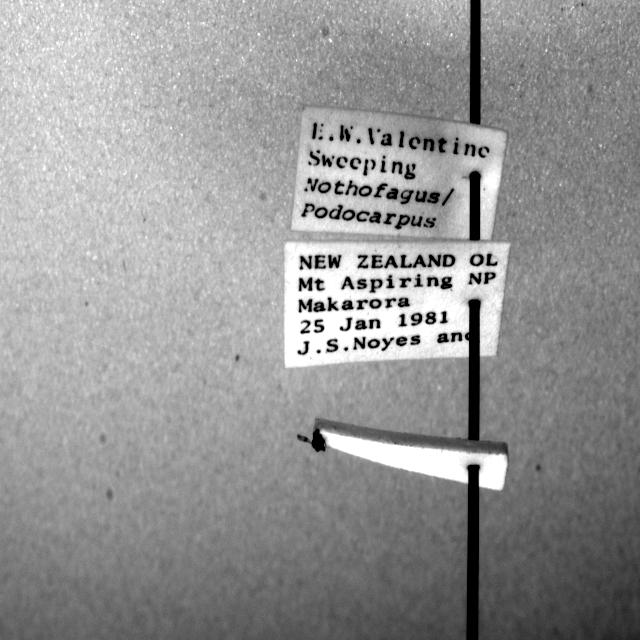typed_label: (291, 105, 508, 240), (285, 240, 510, 368)
